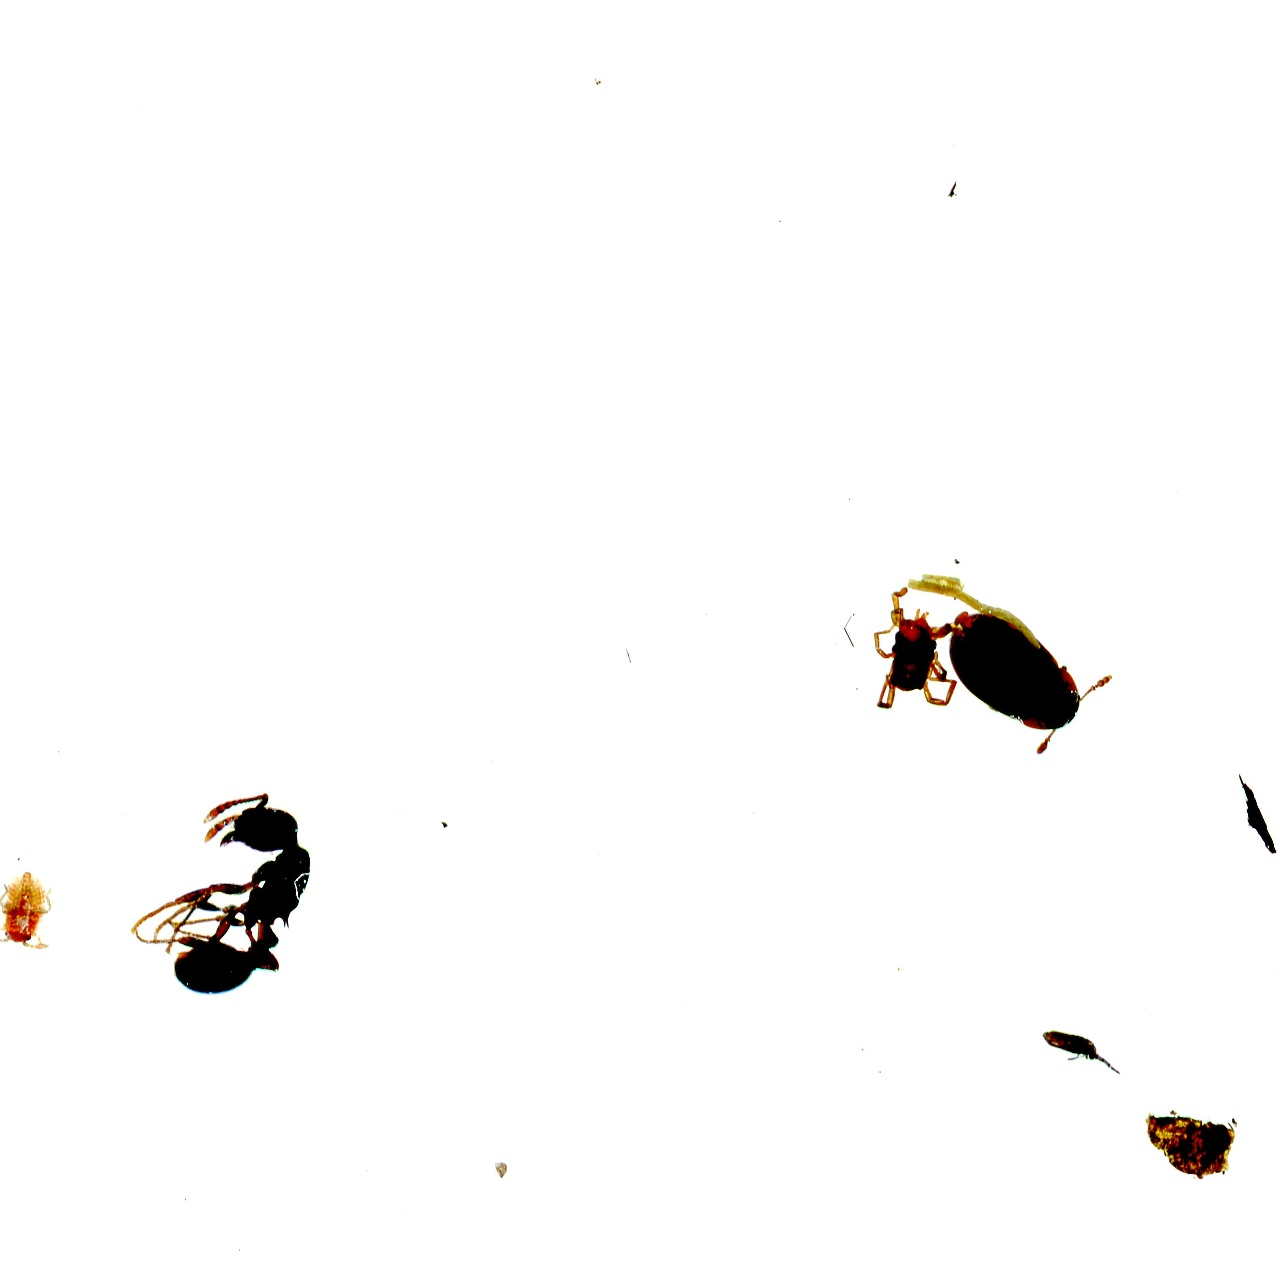arthropod: (909, 551, 1136, 774), (121, 777, 319, 1009), (859, 586, 967, 722), (1030, 1023, 1124, 1081), (0, 871, 55, 952)
